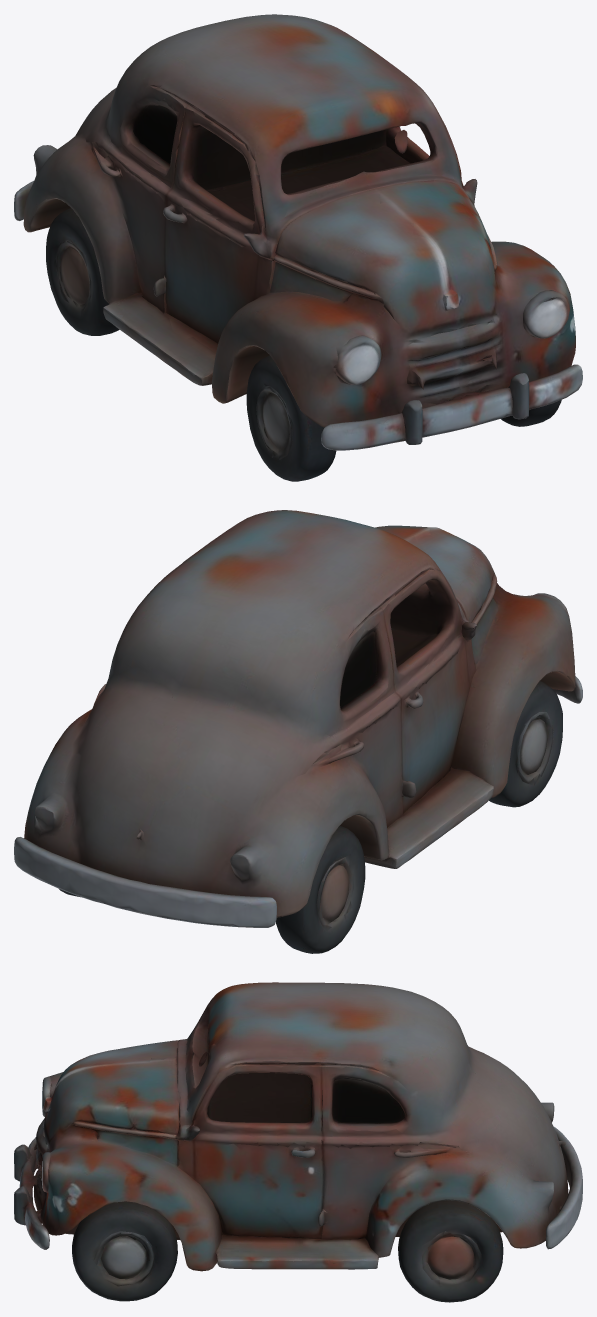
File: car_wreck.glb
The picture shows the model from 3 angles, top to bottom: view 1: azimuth 30°, elevation 25°; view 2: azimuth 150°, elevation 25°; view 3: azimuth 270°, elevation 25°; orthographic projection. The views are drawn at different scales.
Visible parts, largest first — view 1: Mesh; view 2: Mesh; view 3: Mesh.
Boxes of the visible parts, x1,y1,x2,y2 form: Mesh: (14,14,582,481); Mesh: (14,510,582,953); Mesh: (14,982,582,1302).
Size of the model in its own units: 0.9289 by 0.9126 by 1.9.
1 material, 1 textured.
